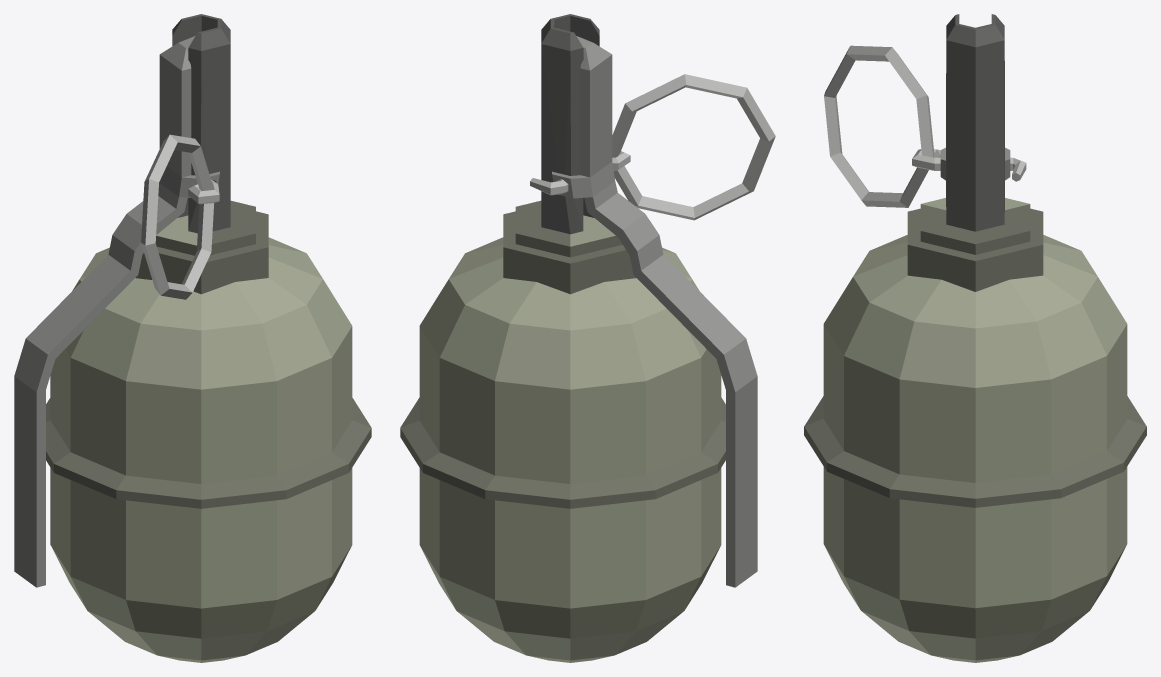
File: SM_Bomb_03.fbx
3 views of the same model, side by side, from view 1: azimuth 30°, elevation 25°; view 2: azimuth 150°, elevation 25°; view 3: azimuth 270°, elevation 25° (orthographic).
Parts seen in each view (by area): view 1: SM_Bomb_03; view 2: SM_Bomb_03; view 3: SM_Bomb_03.
Part boxes in pixels (box(x1,y1,x2,y2)): SM_Bomb_03: box(14, 14, 371, 662); SM_Bomb_03: box(400, 14, 775, 662); SM_Bomb_03: box(804, 14, 1146, 662).
Bounding box in the file's own units: 2.9 × 5.32 × 2.64.
1 material, 1 textured.
